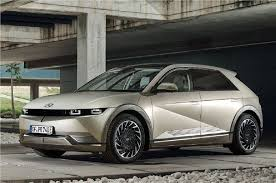Honda Ioniq: (14, 60, 267, 165)
